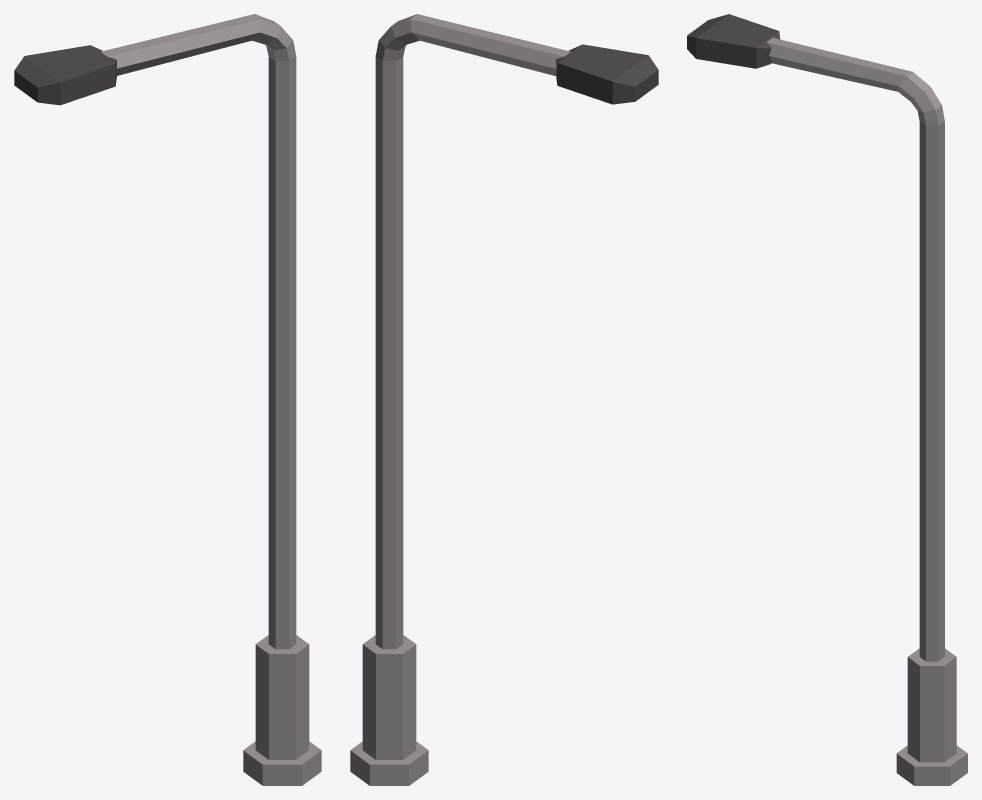
Rendered from LIGHT.fbx.
3 renders of one model, left to right at view 1: azimuth 30°, elevation 25°; view 2: azimuth 150°, elevation 25°; view 3: azimuth 330°, elevation 25°, orthographic. The views are drawn at different scales.
Parts seen in each view (by area): view 1: Props_Street Light; view 2: Props_Street Light; view 3: Props_Street Light.
Part boxes in pixels (x1,y1,x2,y2): Props_Street Light: (14,14,321,785); Props_Street Light: (350,14,658,785); Props_Street Light: (687,14,967,785).
Size of the model in its own units: 81.34 by 207 by 19.3.
1 material, 1 textured.
